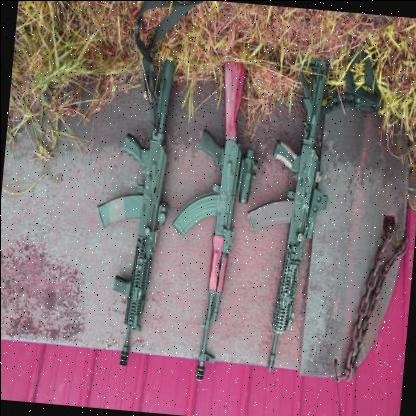rifle: (75, 45, 180, 383), (166, 47, 261, 385), (238, 65, 326, 377)
